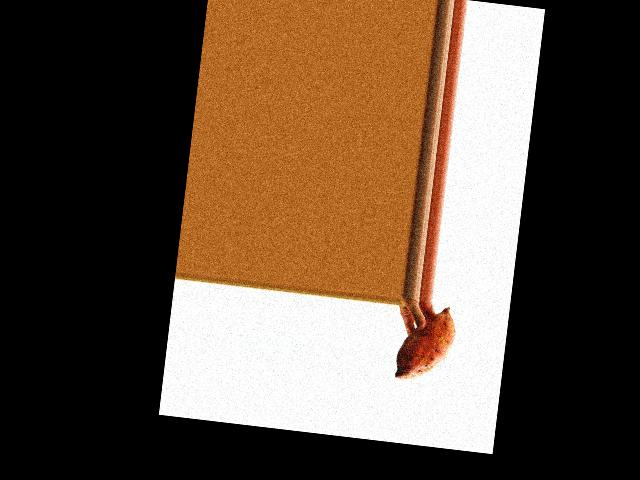sweet_potato: (391, 304, 462, 387)
